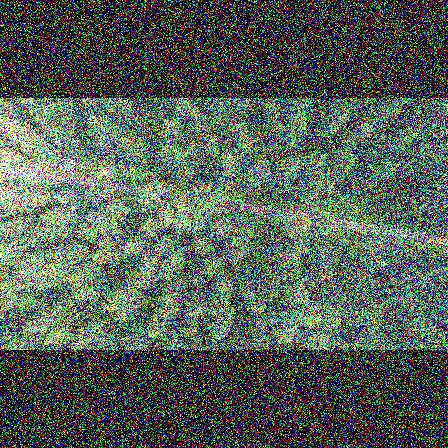Sick: (184, 269, 207, 290), (210, 216, 229, 241), (265, 119, 289, 138), (298, 269, 321, 287), (151, 239, 171, 253), (254, 315, 267, 335), (264, 312, 279, 328), (200, 134, 217, 147), (238, 230, 251, 245)
